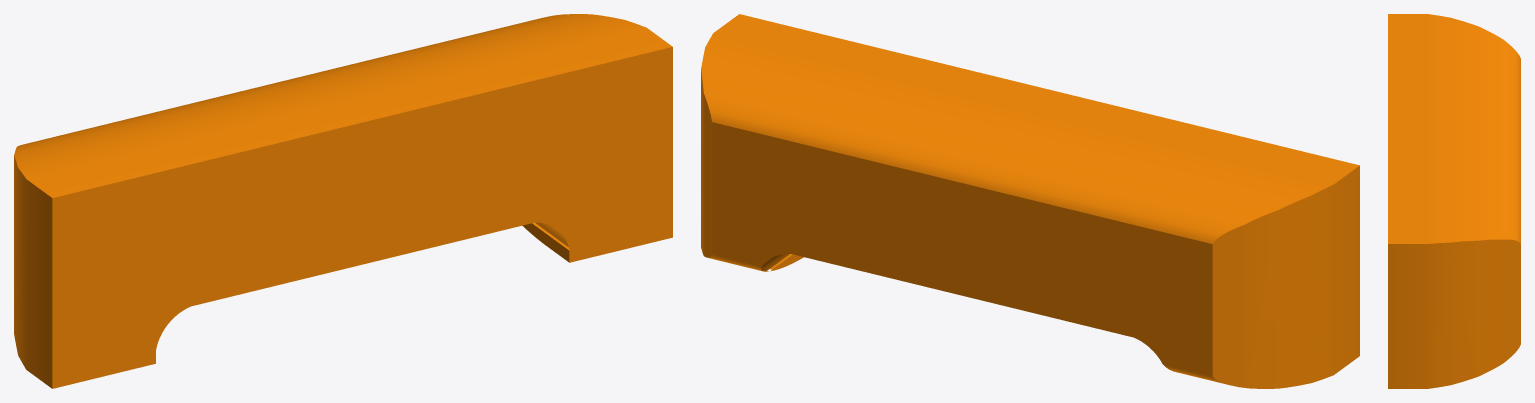
Rendered from original-24.obj.
3 renders of one model, left to right at view 1: azimuth 30°, elevation 25°; view 2: azimuth 150°, elevation 25°; view 3: azimuth 270°, elevation 25°, orthographic. The views are drawn at different scales.
Visible parts, largest first — view 1: Component_3_1/Component_3/mesh20/mesh20-geometry#mesh20-geometry; view 2: Component_3_1/Component_3/mesh20/mesh20-geometry#mesh20-geometry; view 3: Component_3_1/Component_3/mesh20/mesh20-geometry#mesh20-geometry.
Boxes of the visible parts, bbox=[...] form: Component_3_1/Component_3/mesh20/mesh20-geometry#mesh20-geometry: bbox=[14, 14, 672, 388]; Component_3_1/Component_3/mesh20/mesh20-geometry#mesh20-geometry: bbox=[701, 14, 1359, 388]; Component_3_1/Component_3/mesh20/mesh20-geometry#mesh20-geometry: bbox=[1388, 14, 1520, 388].
Size of the model in its own units: 0.4482 by 0.1317 by 0.1093.
